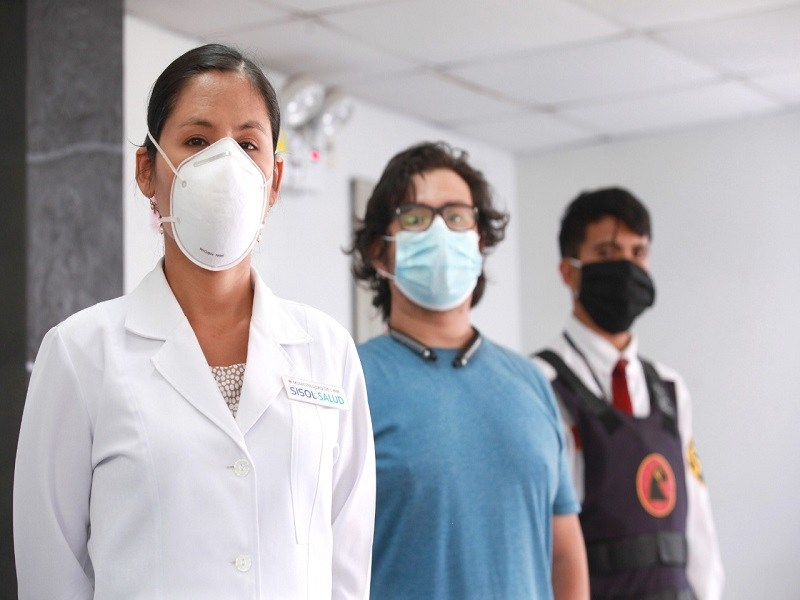with_mask: (138, 57, 317, 282), (353, 150, 530, 355), (544, 187, 682, 348)
